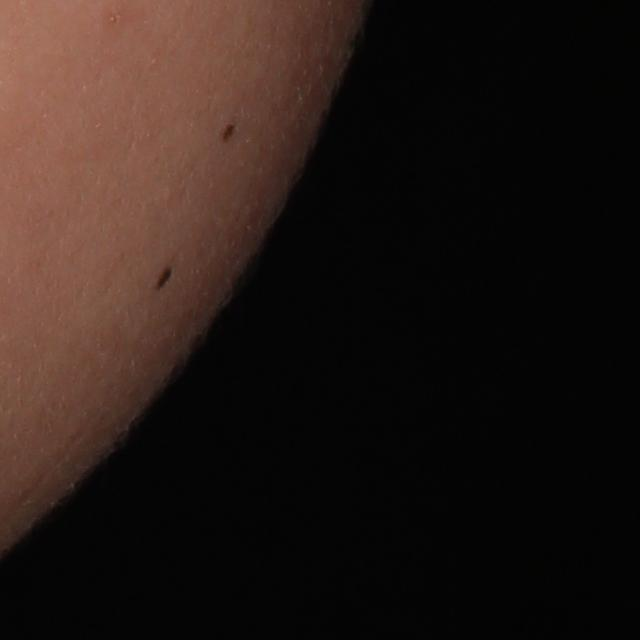nevus: (153, 264, 174, 294), (222, 122, 236, 146)
